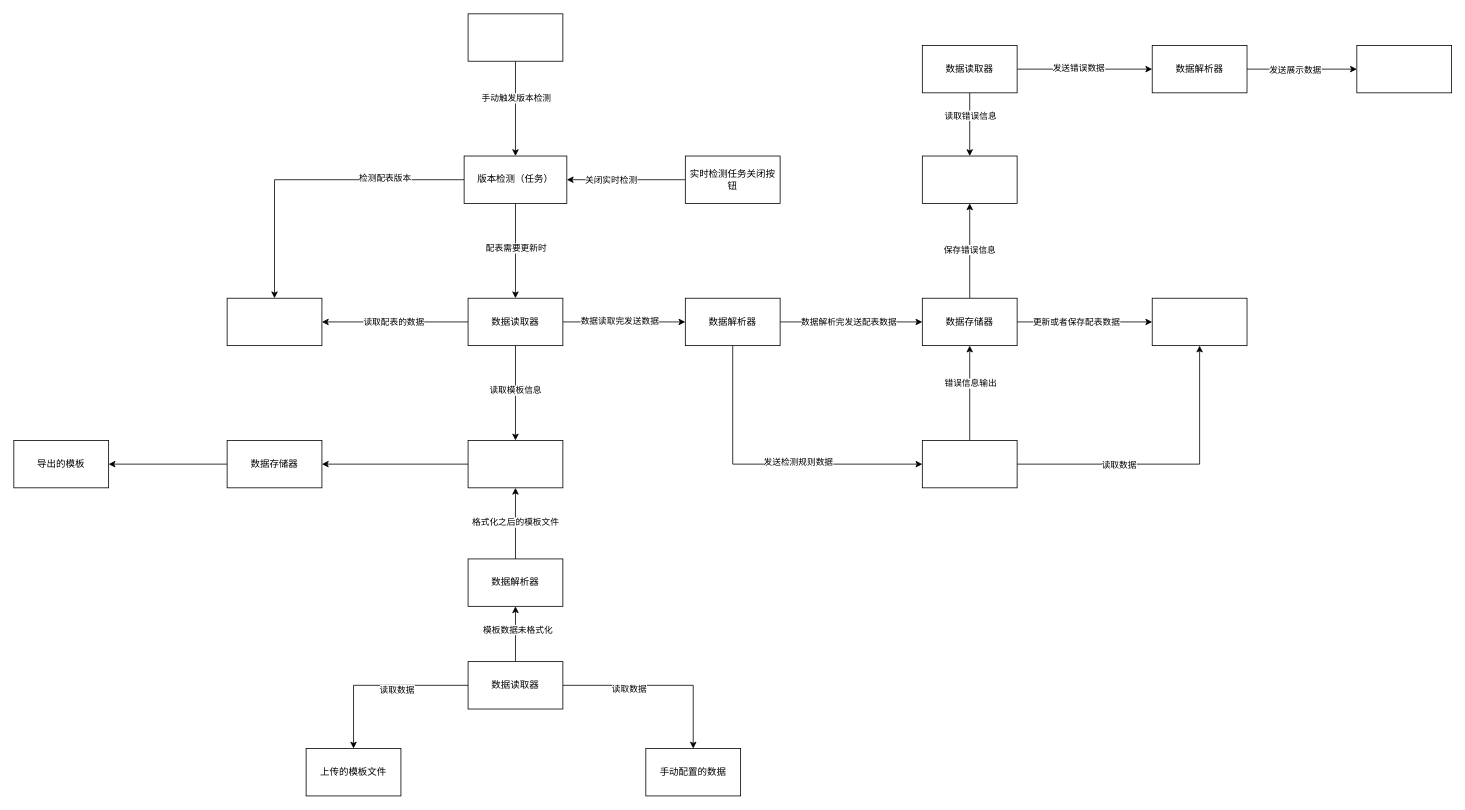
Image size: 1465x810. Some labels were removed from this diagram. The centre of each missing label's shape, as x and y in pixels:
前端: point 1404,69
原始配表目录: point 274,321
实际任务读取的数据: point 1199,321
数据检测（任务）: point 969,464
更新版本按钮: point 515,37
规则模板: point 515,464
错误信息: point 969,179
